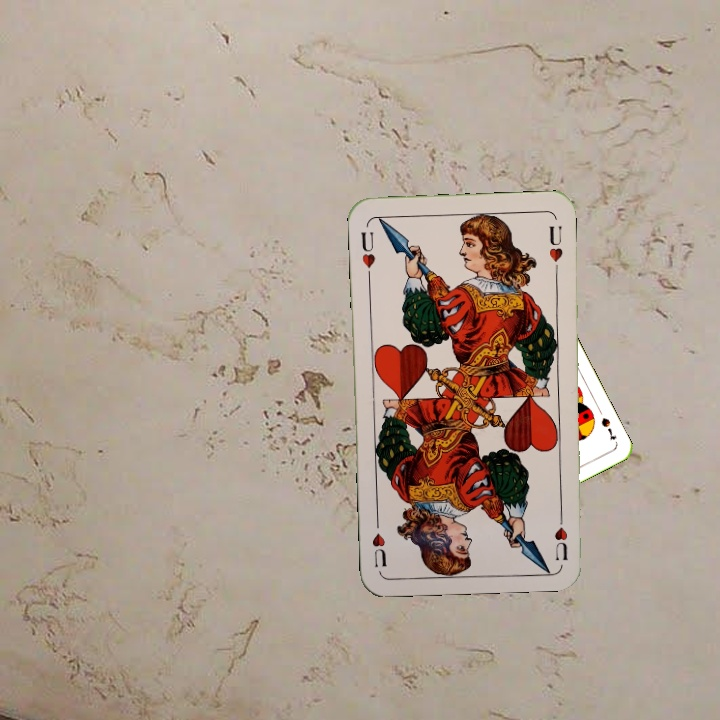HU: (551, 505, 570, 564), (357, 228, 378, 281)
S7: (597, 414, 619, 444)
